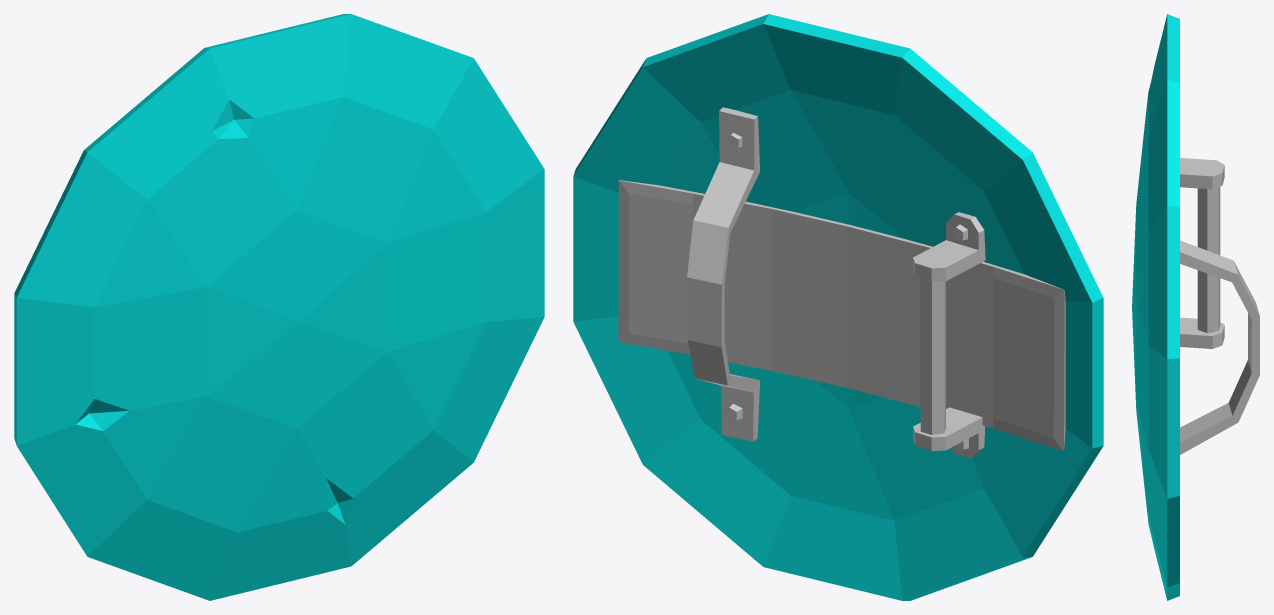
File: SM_Wep_Shield_Riot_03.fbx
3 views of the same model, side by side, from view 1: azimuth 30°, elevation 25°; view 2: azimuth 150°, elevation 25°; view 3: azimuth 270°, elevation 25° (orthographic). The views are drawn at different scales.
Parts seen in each view (by area): view 1: SM_Wep_Shield_Riot_03; view 2: SM_Wep_Shield_Riot_03; view 3: SM_Wep_Shield_Riot_03.
Boxes of the visible parts, x1=… form: SM_Wep_Shield_Riot_03: x1=14, y1=14, x2=544, y2=600; SM_Wep_Shield_Riot_03: x1=573, y1=14, x2=1103, y2=600; SM_Wep_Shield_Riot_03: x1=1132, y1=14, x2=1259, y2=600.
Size of the model in its own units: 76.45 by 76.45 by 17.
